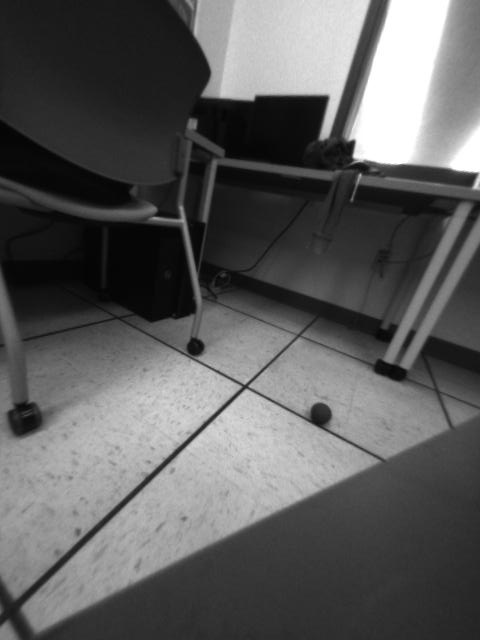dogtoy: (303, 398, 342, 430), (303, 396, 338, 427)
